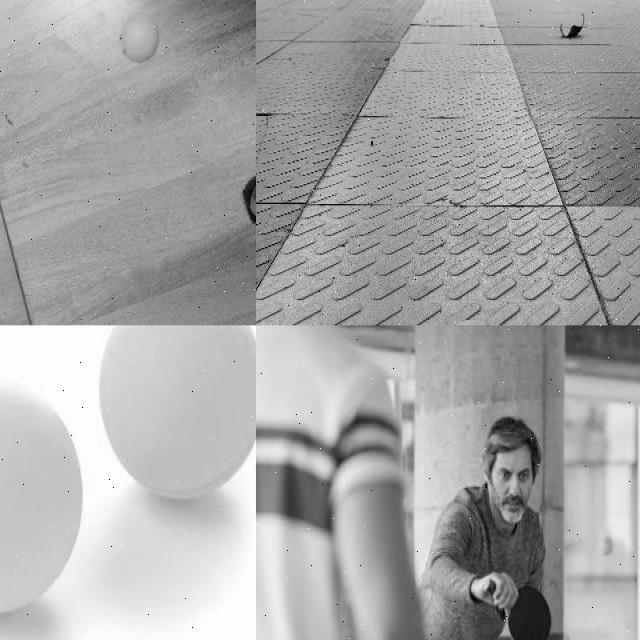ping-pong-ball: (98, 325, 255, 500), (0, 382, 82, 612), (120, 12, 160, 60), (598, 536, 612, 556)
